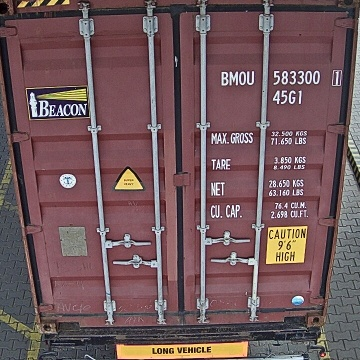serial_id: (221, 70, 342, 84)
